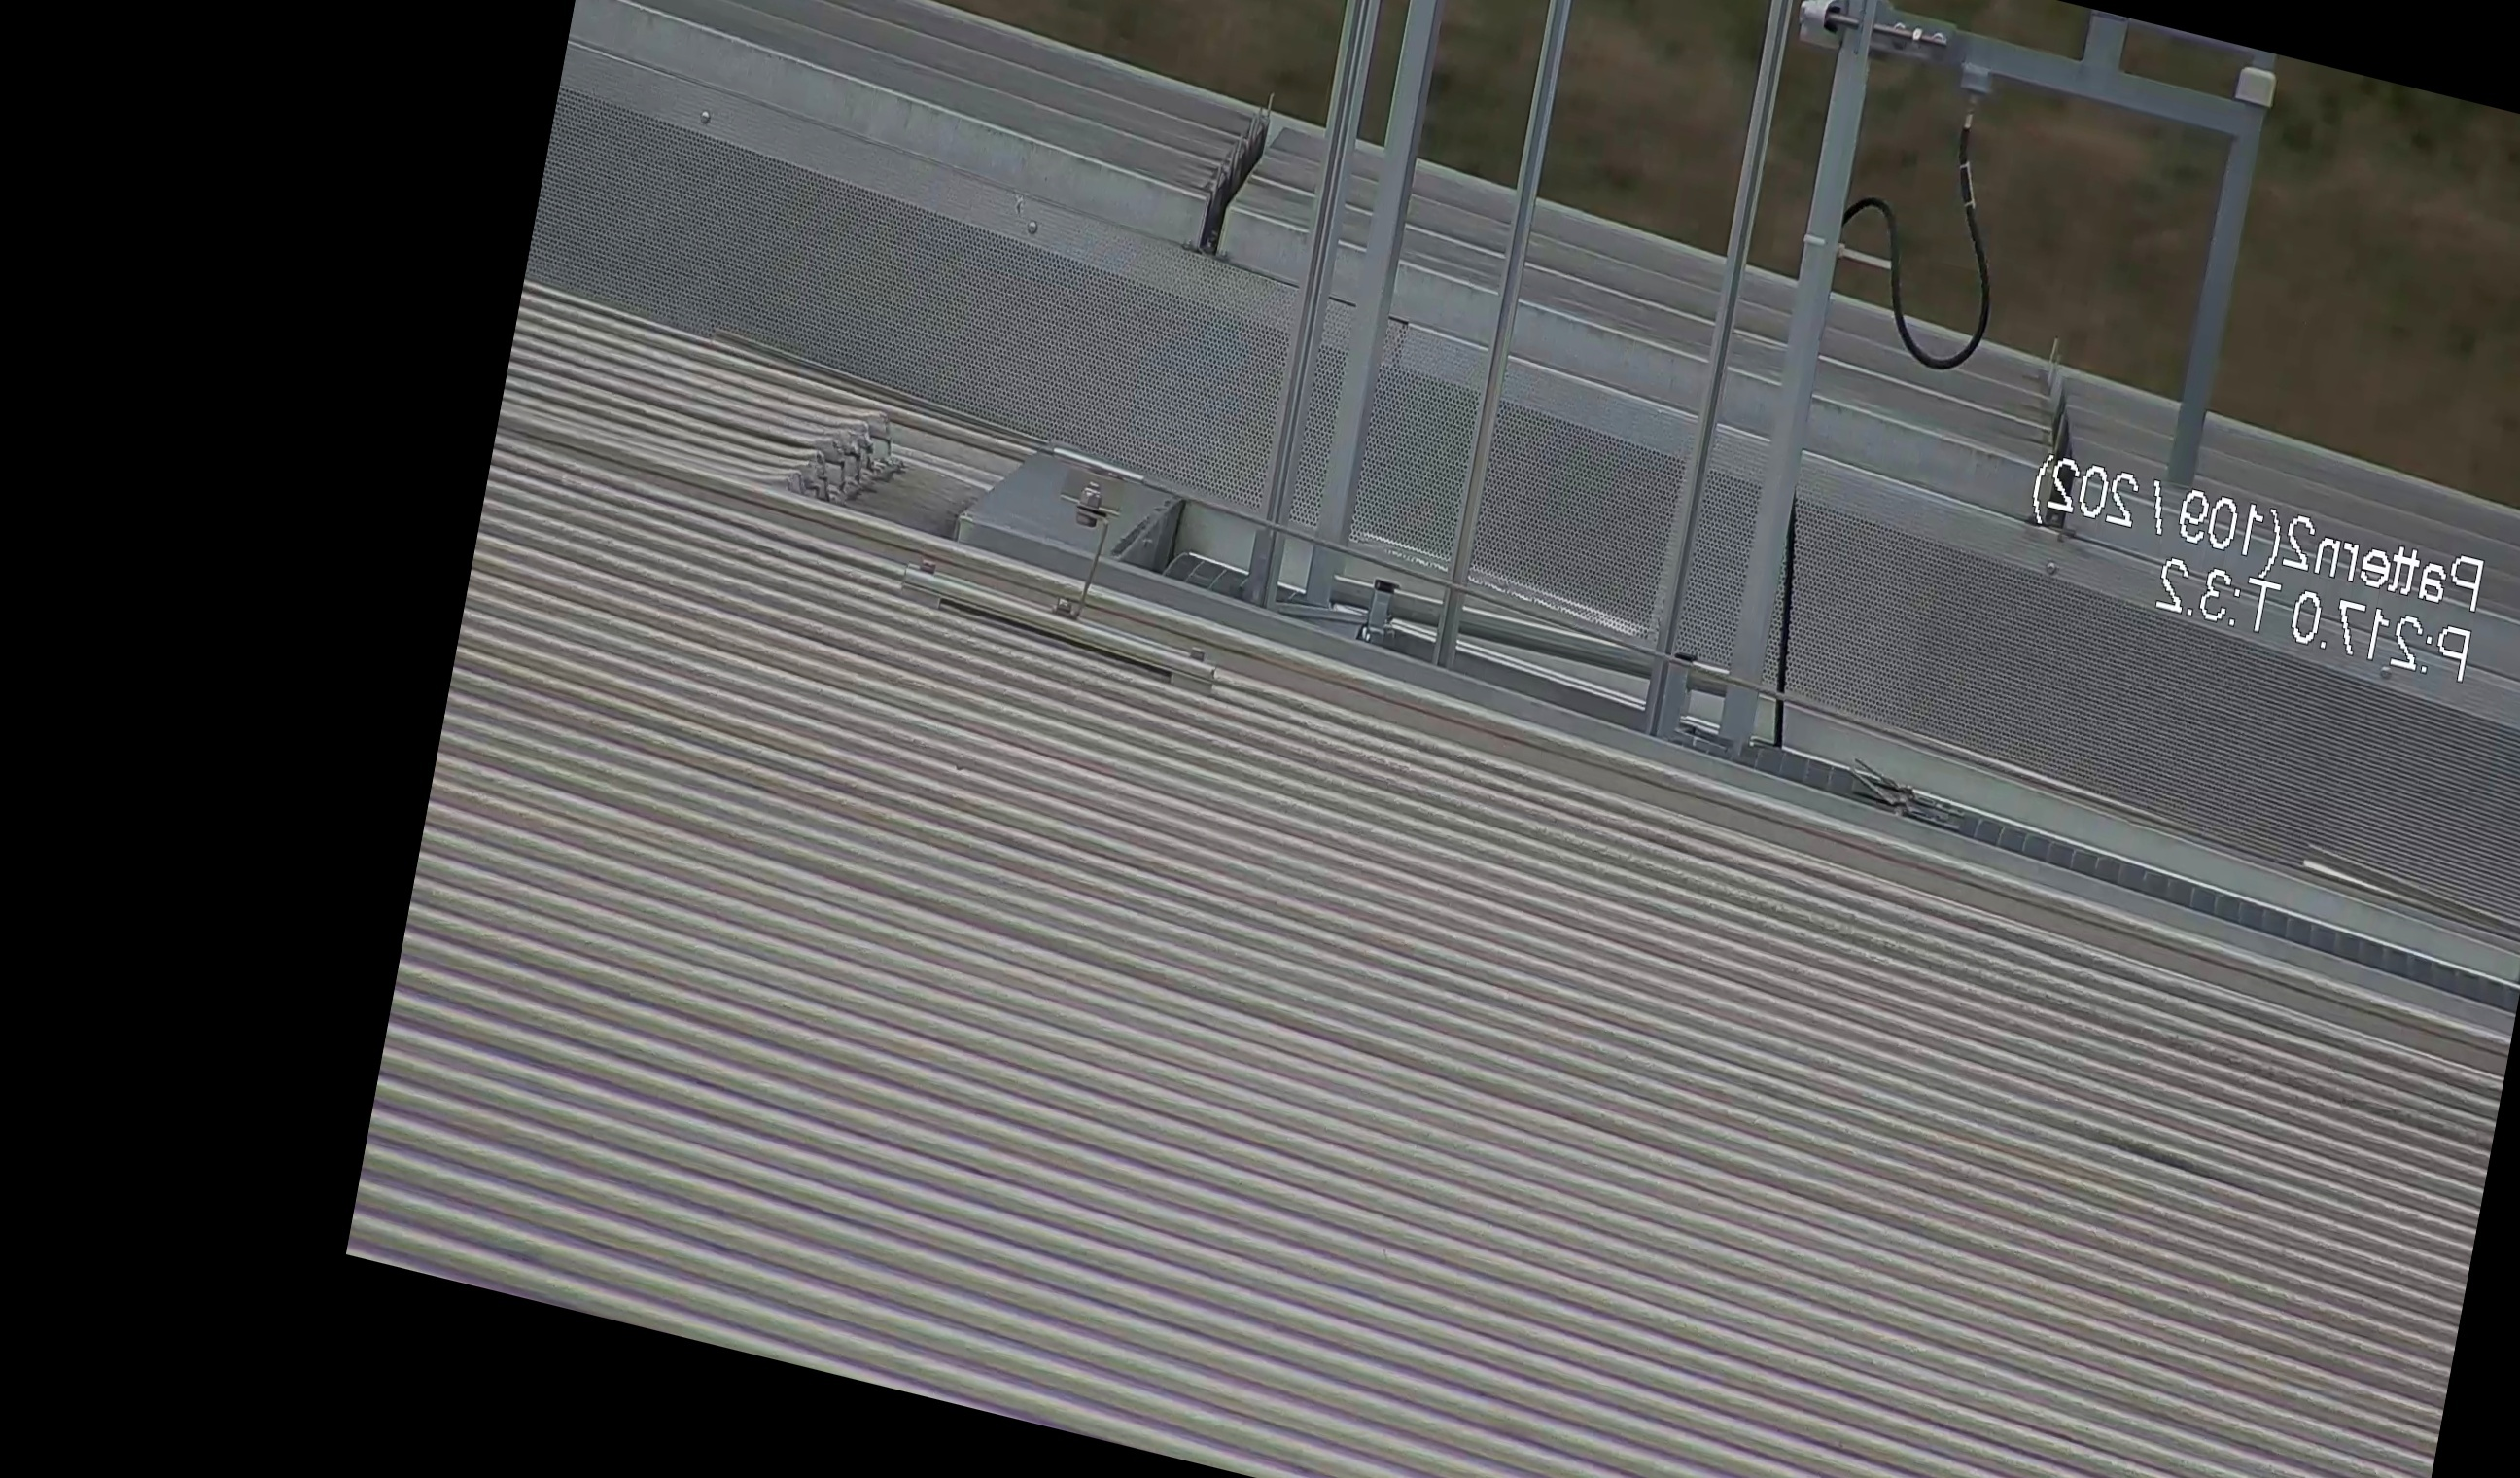Other: (1175, 63, 1300, 266)
